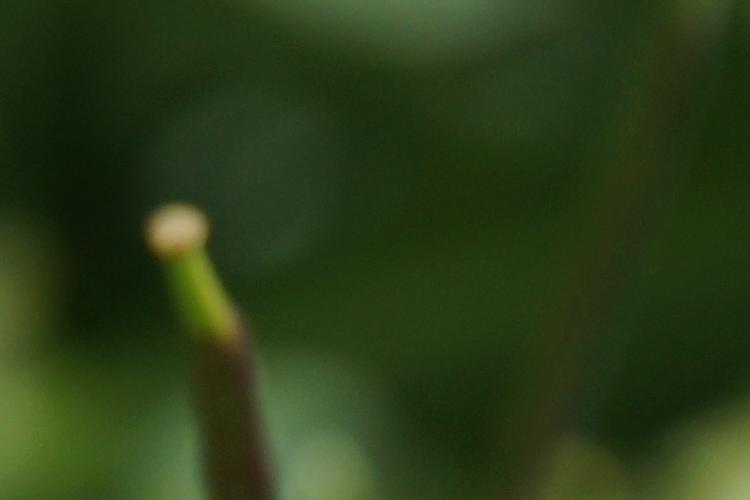pod: (130, 204, 299, 488)
